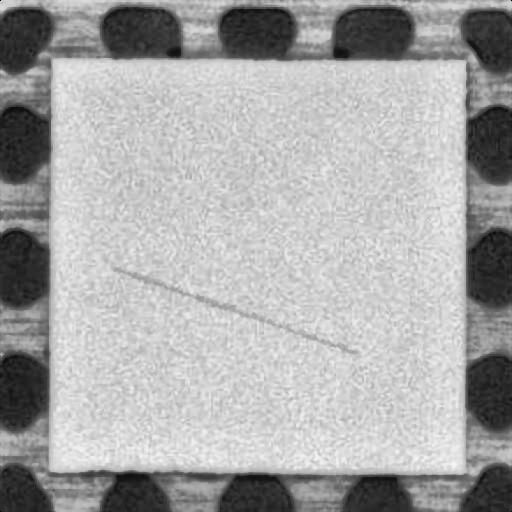DIE_CRACK: (112, 267, 352, 352)
